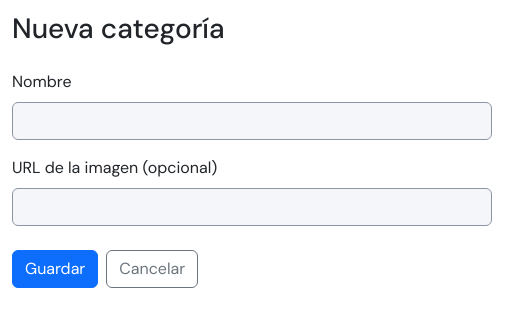
Test: CategoriaForm › muestra un error si el nombre está vacío
Click the button "Guardar": point(55, 269) [12,250,98,288]
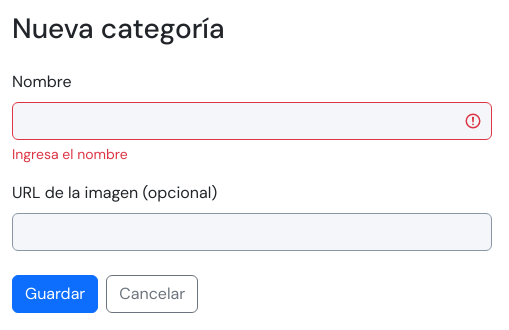
Result: the text "Ingresa el nombre" is shown at [12,145,128,163]
